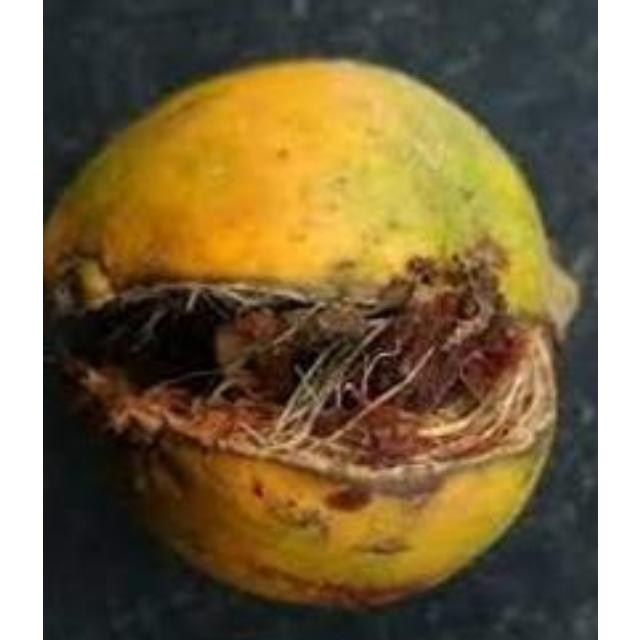damaged: (42, 61, 578, 619)
